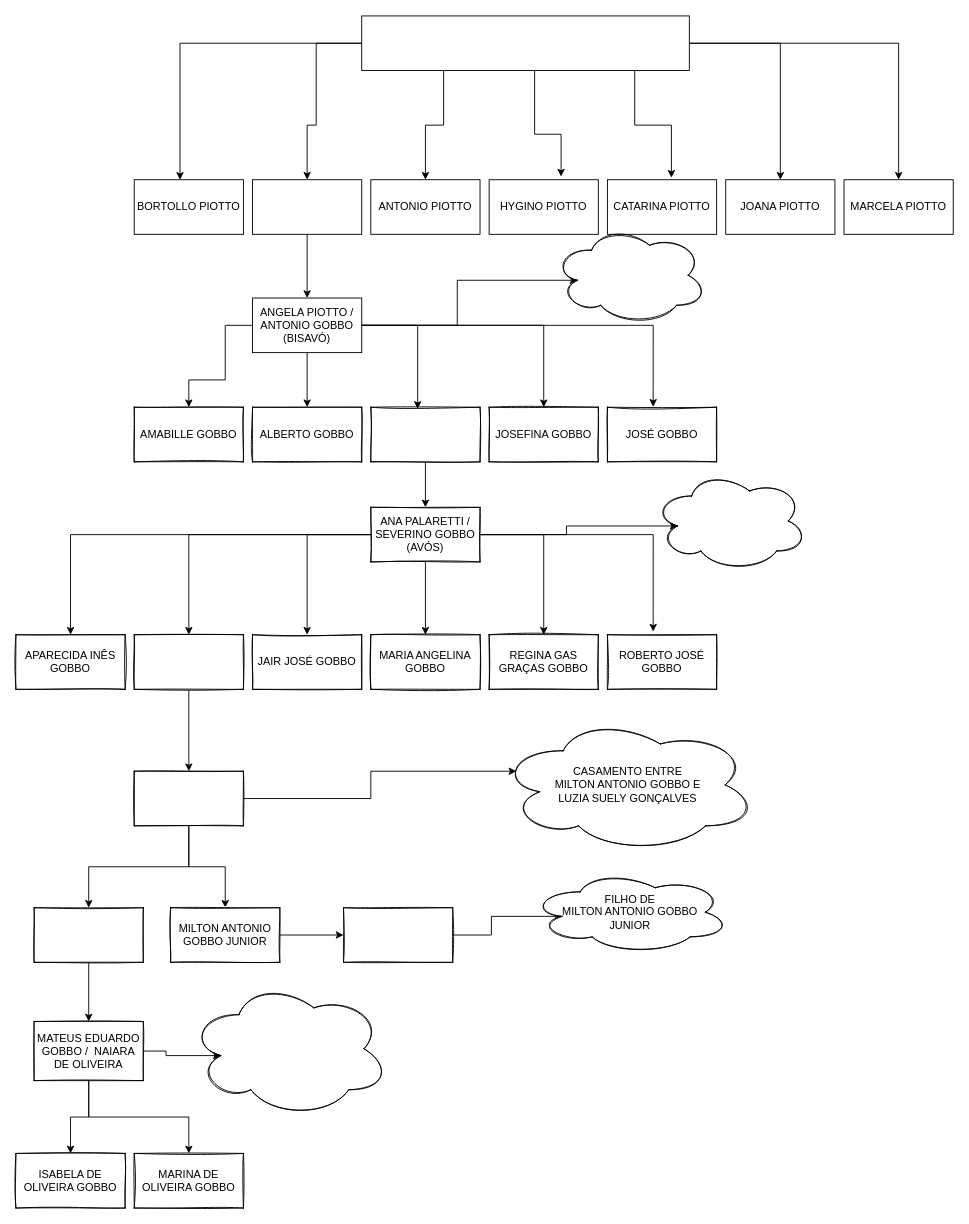
Some shapes in this 969 by 1224 pixel diagram are drawn without their labels. The shapes that lost their labels are listed below. From the top down, each one's centre as x and y in pixels, then its label:
pixel 525 43: GIOVANNI PIOTTO / GIOCOMMA MARCHIORI PIOTTO (ITALIANOS)
pixel 307 206: ANGELA PIOTTO
pixel 630 274: CASAMENTO ENTRE ANGELA PIOTTO E ANTONIO GOBBO
pixel 425 434: SEVERINO GOBBO
pixel 730 520: CASAMENTO ENTRE ANA PALARETTI E SEVERINO GOBBO
pixel 188 661: MILTON ANTONIO GOBBO
pixel 188 798: MILTON ANTONIO GOBBO / LUZIA SUELY GONÇAVES
pixel 88 934: MATEUS EDUARDO GOBBO
pixel 398 934: LUCCA GOBBO
pixel 288 1048: CASAMENTO ENTRE MATEUS EDUARDO GOBBO E NAIARA DE OLIVEIRA
